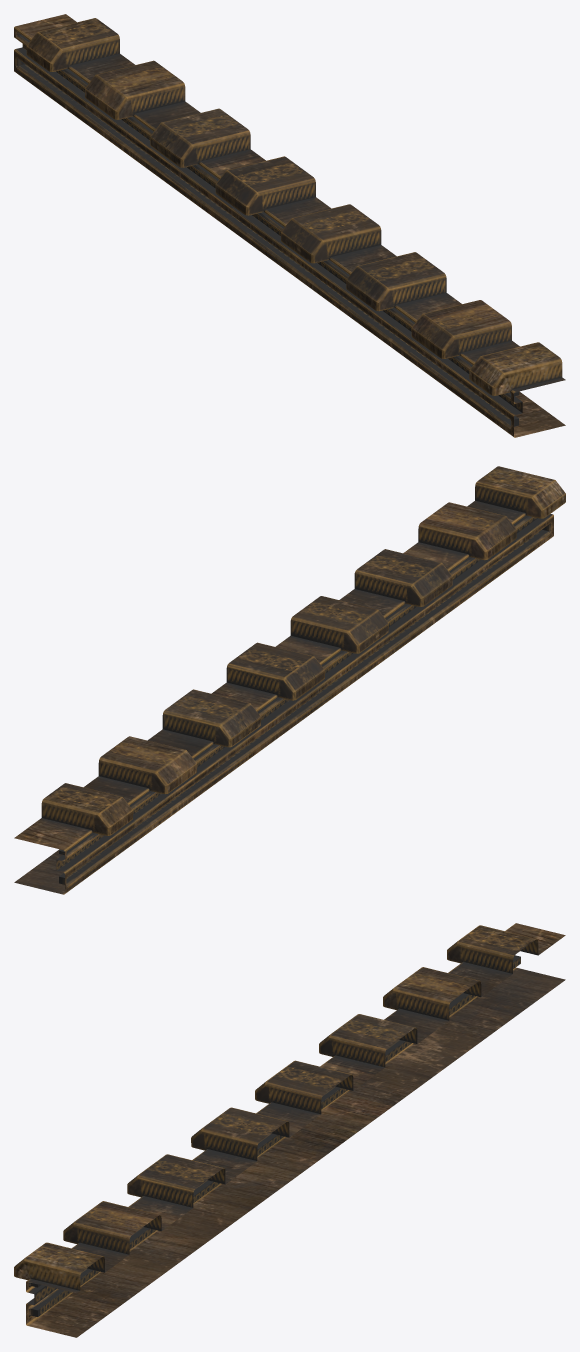
The model's file is SM_CornerSimple.fbx.
3 renders of one model, top to bottom at view 1: azimuth 30°, elevation 25°; view 2: azimuth 150°, elevation 25°; view 3: azimuth 330°, elevation 25°, orthographic. The views are drawn at different scales.
Visible parts, largest first — view 1: SM_CornerSimple_LOD0; view 2: SM_CornerSimple_LOD0; view 3: SM_CornerSimple_LOD0.
Part boxes in pixels (x1=…): SM_CornerSimple_LOD0: x1=14, y1=14, x2=565, y2=437; SM_CornerSimple_LOD0: x1=14, y1=466, x2=565, y2=894; SM_CornerSimple_LOD0: x1=14, y1=923, x2=565, y2=1337.
Bounding box in the file's own units: 48 × 600 × 42.07.
Materials: 1 (1 with a texture image).
